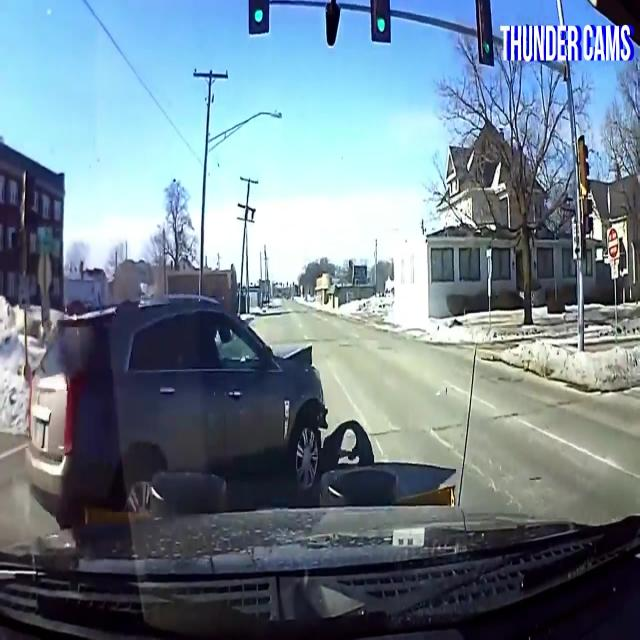accident: (42, 286, 349, 508)
